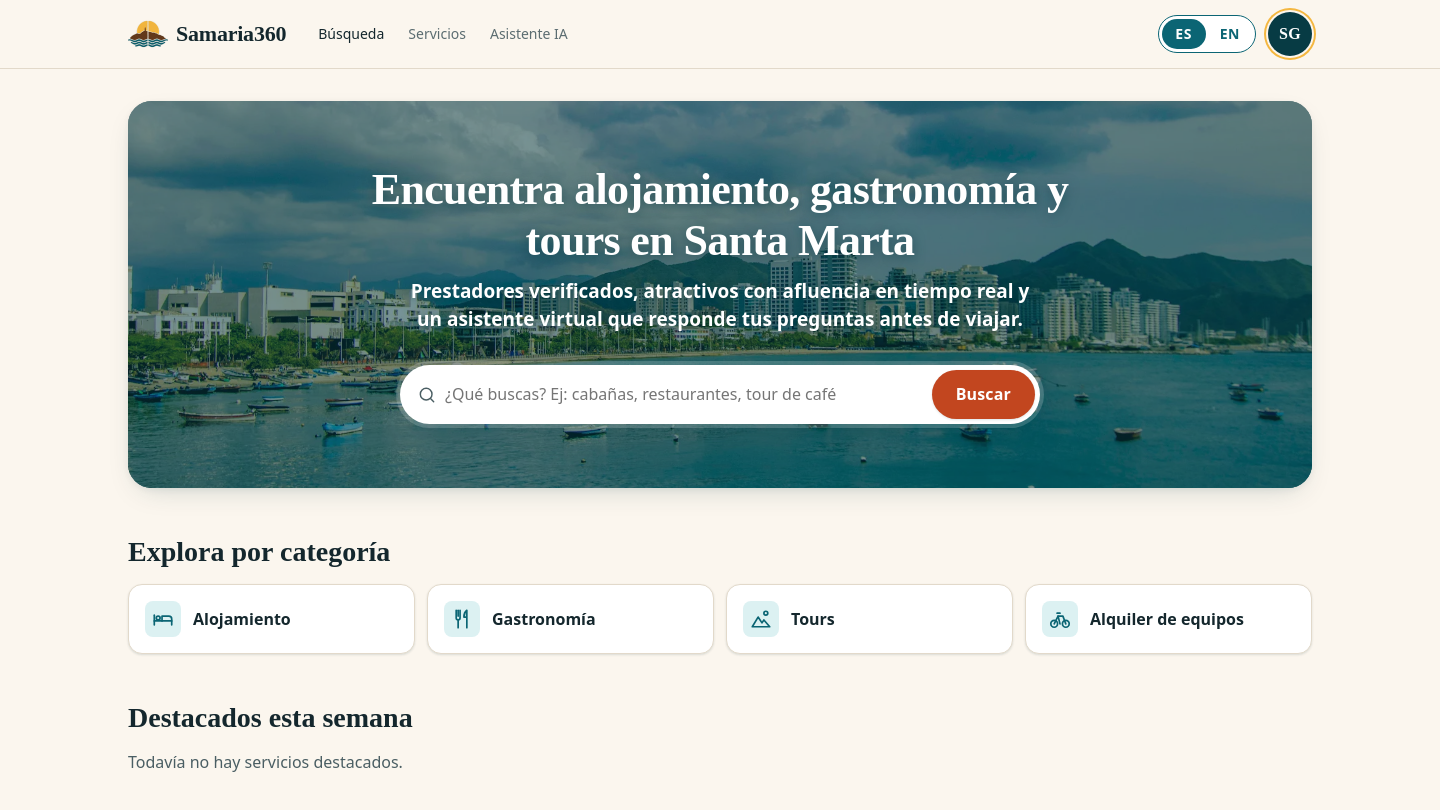
Scenario: Rutas y menú del Gestor (C6) › el menú del Gestor tiene exactamente «Atractivos», «Registrar atractivo» y «Cerrar sesión»
This screenshot has width=1440, height=810.
Click the button "SG": (1290, 34) [1268,12,1312,56]
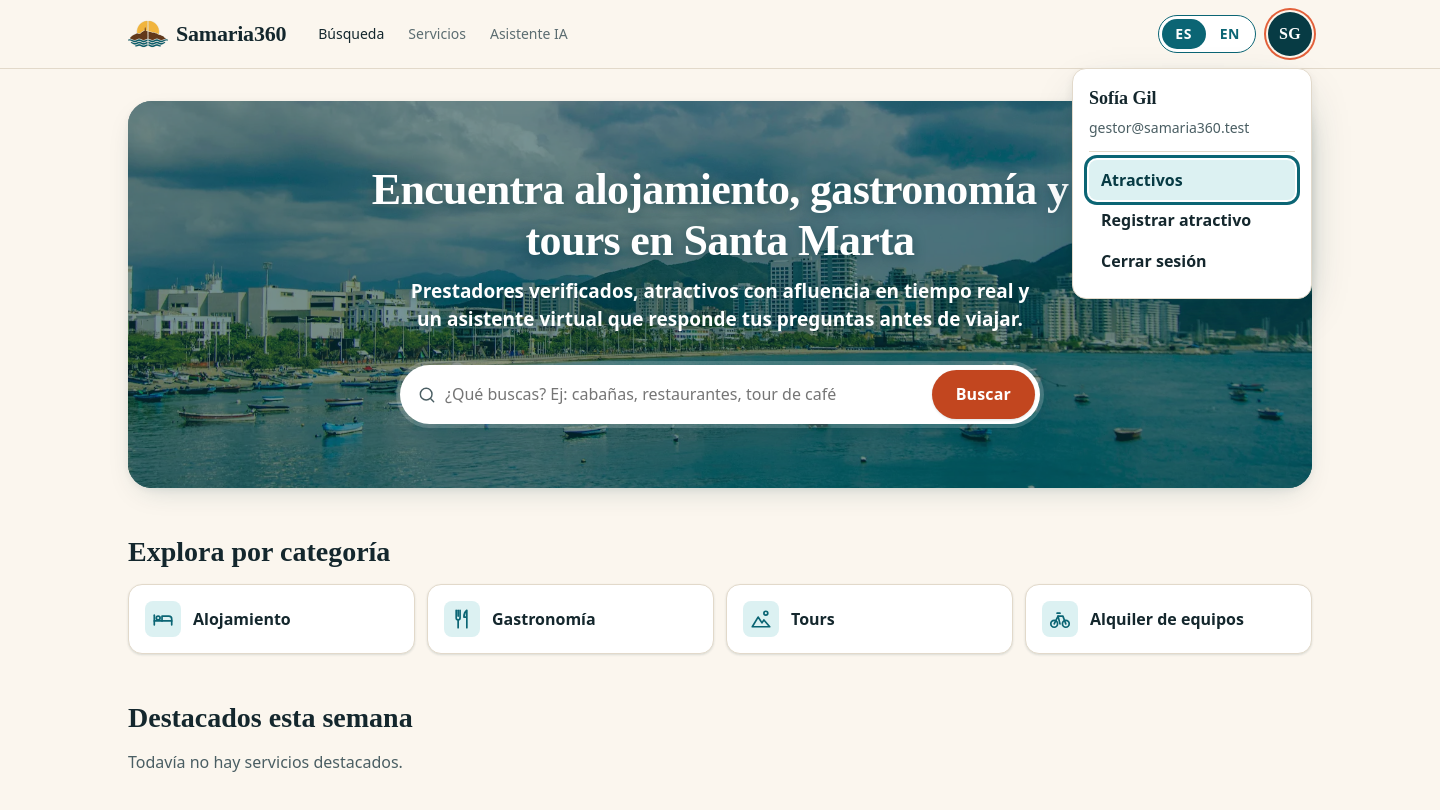
Result: the menu items read "Atractivos", "Registrar atractivo", "Cerrar sesión", in this order at [1089,160,1295,200]; [1101,209,1251,231]; [1089,241,1295,282]
